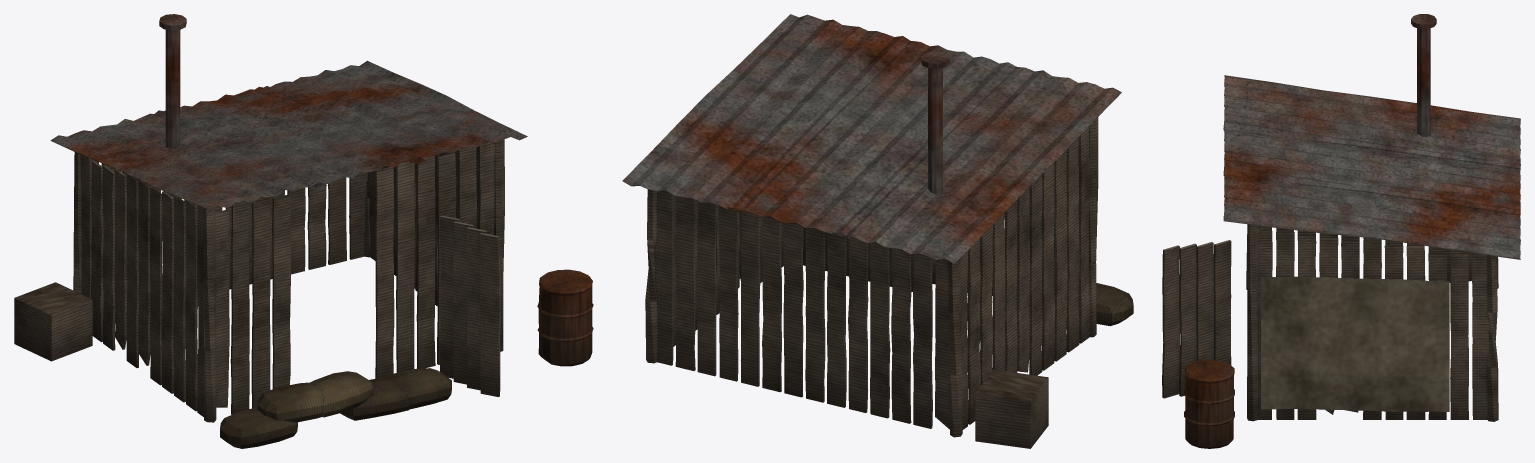
The model's file is shack_a.glb.
3 views of the same model, side by side, from view 1: azimuth 30°, elevation 25°; view 2: azimuth 150°, elevation 25°; view 3: azimuth 270°, elevation 25° (orthographic). The views are drawn at different scales.
Parts seen in each view (by area): view 1: shack_a; view 2: shack_a; view 3: shack_a.
Part boxes in pixels (bbox=[...]): shack_a: bbox=[14, 14, 593, 448]; shack_a: bbox=[622, 14, 1133, 448]; shack_a: bbox=[1162, 14, 1520, 448].
Size of the model in its own units: 5.31 by 3.87 by 4.19.
Materials: 1 (1 with a texture image).
